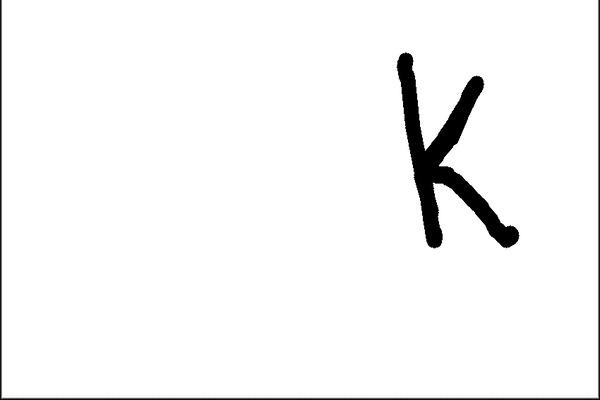K: (395, 46, 523, 251)
